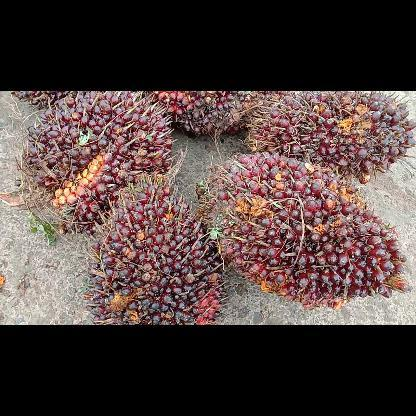Kurang masak: (194, 150, 414, 312), (82, 174, 232, 324), (20, 91, 176, 235), (244, 91, 414, 185)
